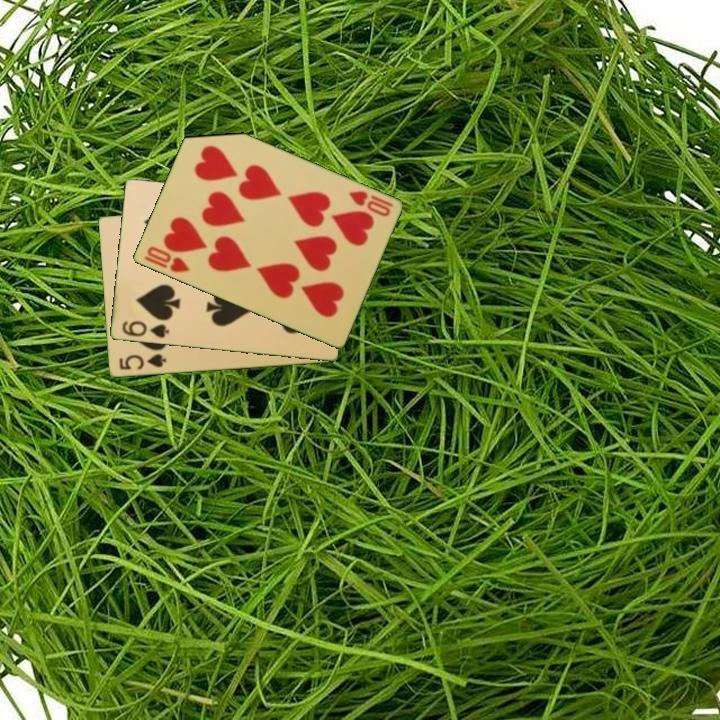10h: (140, 243, 192, 276), (345, 187, 396, 220)
5s: (115, 351, 169, 373)
6s: (118, 318, 171, 341)
